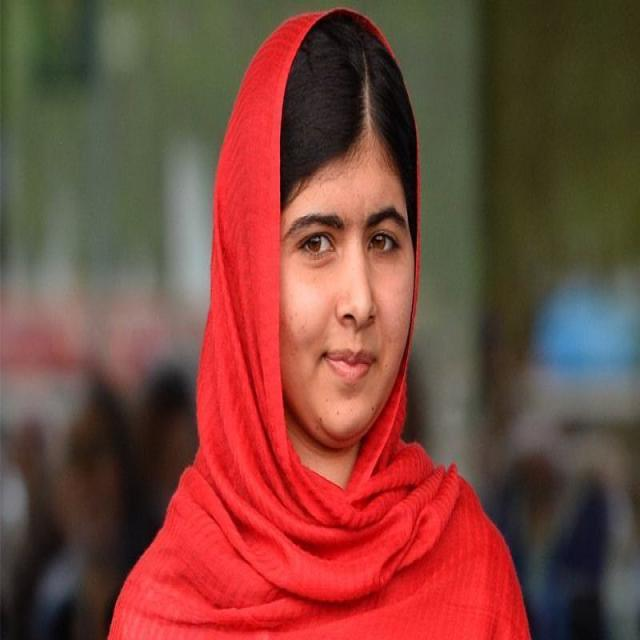human: (100, 3, 538, 640)
